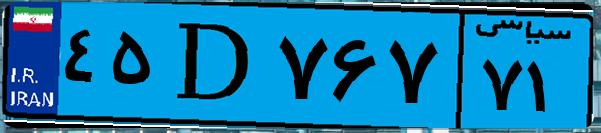1: (525, 38, 570, 115)
4: (57, 26, 110, 100)
5: (110, 28, 158, 98)
6: (330, 28, 385, 110)
7: (270, 28, 330, 110), (385, 28, 445, 110), (475, 38, 525, 113)
D: (158, 12, 270, 120)
